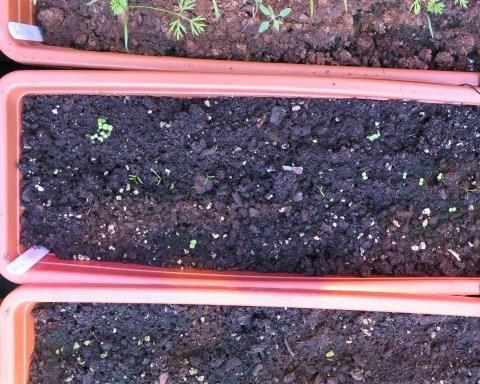weed: (443, 203, 457, 212), (186, 237, 197, 248), (359, 169, 369, 181), (434, 169, 443, 180), (399, 169, 407, 181), (416, 175, 424, 186)
